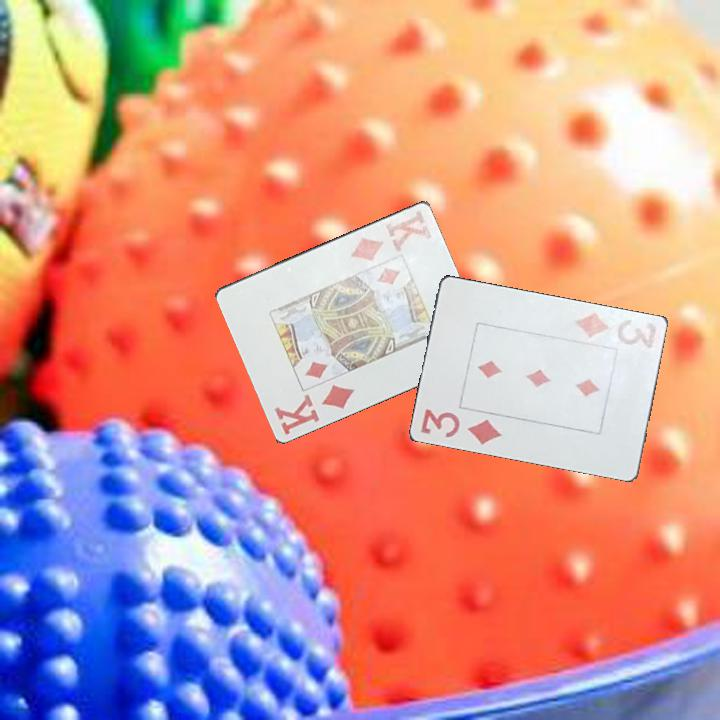3d: (572, 308, 660, 354), (418, 405, 505, 449)
Kd: (347, 206, 435, 264), (271, 381, 358, 437)
